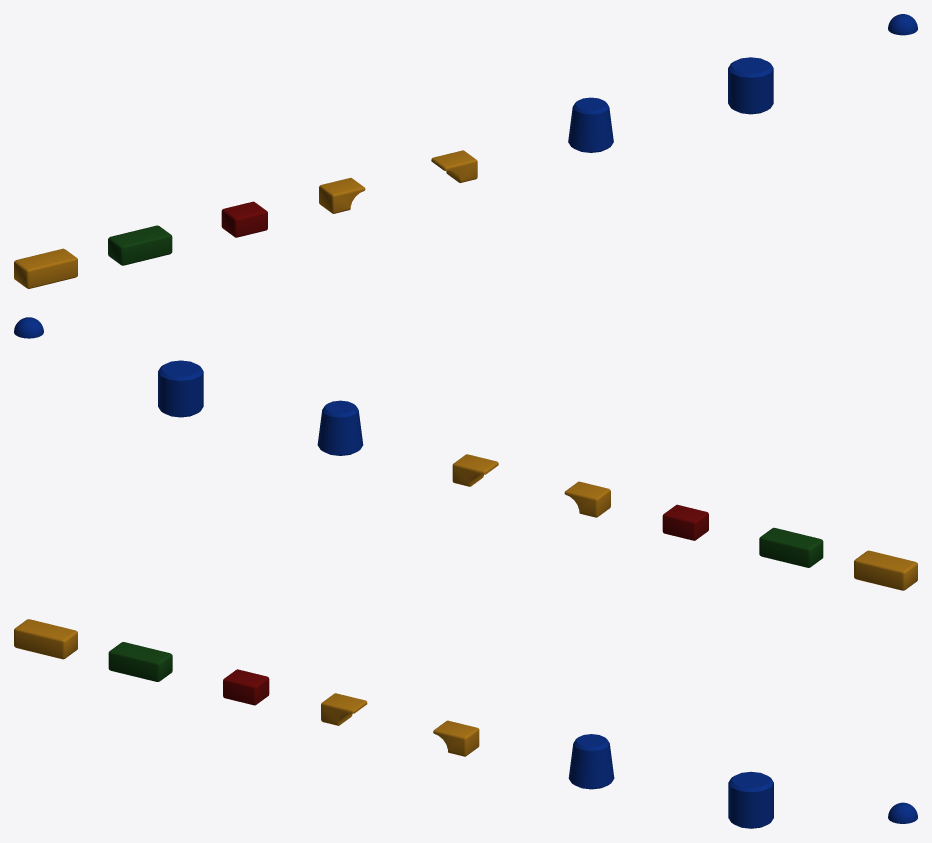
The model's file is current.FBX.
The picture shows the model from 3 angles, top to bottom: view 1: azimuth 30°, elevation 25°; view 2: azimuth 150°, elevation 25°; view 3: azimuth 330°, elevation 25°; orthographic projection.
Parts seen in each view (by area): view 1: blue_cyl, blue_conic_cy, green_box, yellow_box, red_box, yellow_sub2, yellow_sub; view 2: blue_cyl, blue_conic_cy, green_box, yellow_box, red_box, yellow_sub2, yellow_sub; view 3: blue_cyl, blue_conic_cy, green_box, yellow_box, red_box, yellow_sub, yellow_sub2, blue hemi.
Boxes of the visible parts, x1,y1,x2,y2 form: blue_cyl: (728,57,773,114); blue_conic_cy: (568,97,613,152); green_box: (108,225,172,265); yellow_box: (14,248,77,288); red_box: (221,201,267,237); yellow_sub2: (319,178,365,213); yellow_sub: (431,150,477,182); blue_cyl: (158,360,203,417); blue_conic_cy: (317,400,363,455); green_box: (759,527,823,567); yellow_box: (854,550,917,590); red_box: (662,504,708,540); yellow_sub2: (564,481,610,517); yellow_sub: (452,454,498,486); blue_cyl: (728,771,773,828); blue_conic_cy: (568,734,614,789); green_box: (108,642,172,681); yellow_box: (14,619,77,659); red_box: (223,669,269,705); yellow_sub: (433,720,479,756); yellow_sub2: (321,693,367,725); blue hemi: (888,802,917,823).
Bounding box in the file's own units: 49.85 × 2.87 × 2.21.
